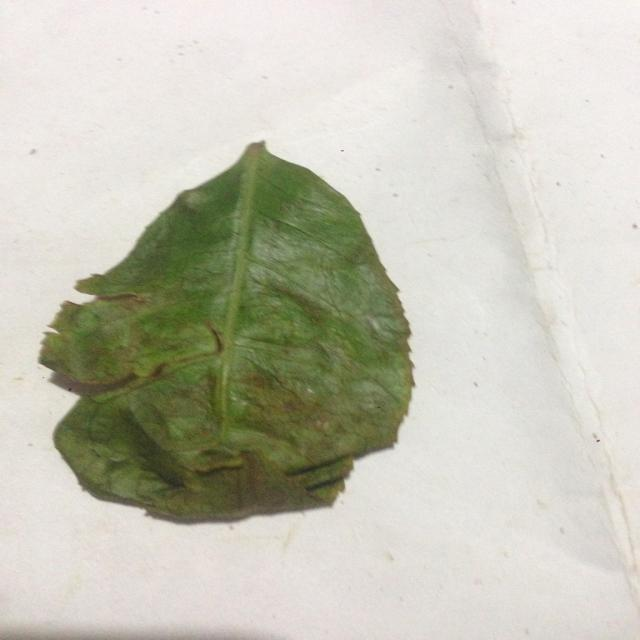Red Leaf Spot: (40, 132, 447, 537)
